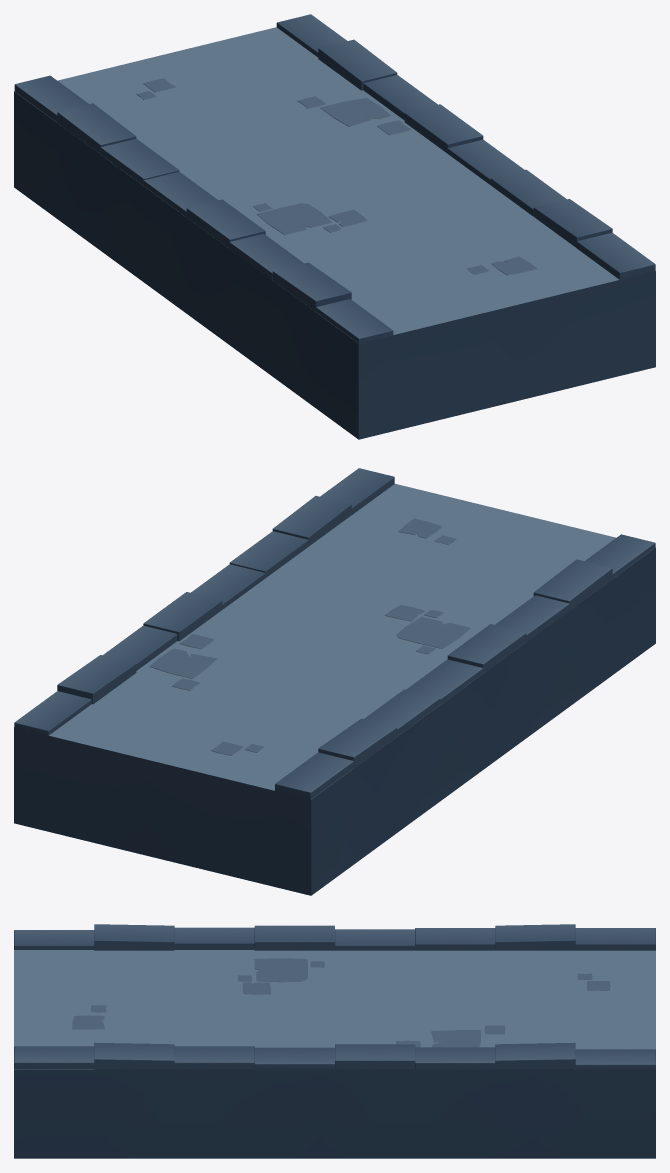
The model's file is Map run.fbx.
3 views of the same model, one above another, from view 1: azimuth 30°, elevation 25°; view 2: azimuth 150°, elevation 25°; view 3: azimuth 270°, elevation 25° (orthographic). The views are drawn at different scales.
Visible parts, largest first — view 1: map_run; view 2: map_run; view 3: map_run.
Part boxes in pixels (box(x1,y1,x2,y2)): map_run: box(14, 14, 655, 439); map_run: box(14, 468, 655, 895); map_run: box(14, 924, 655, 1158).
Bounding box in the file's own units: 1995 × 686 × 4002.
